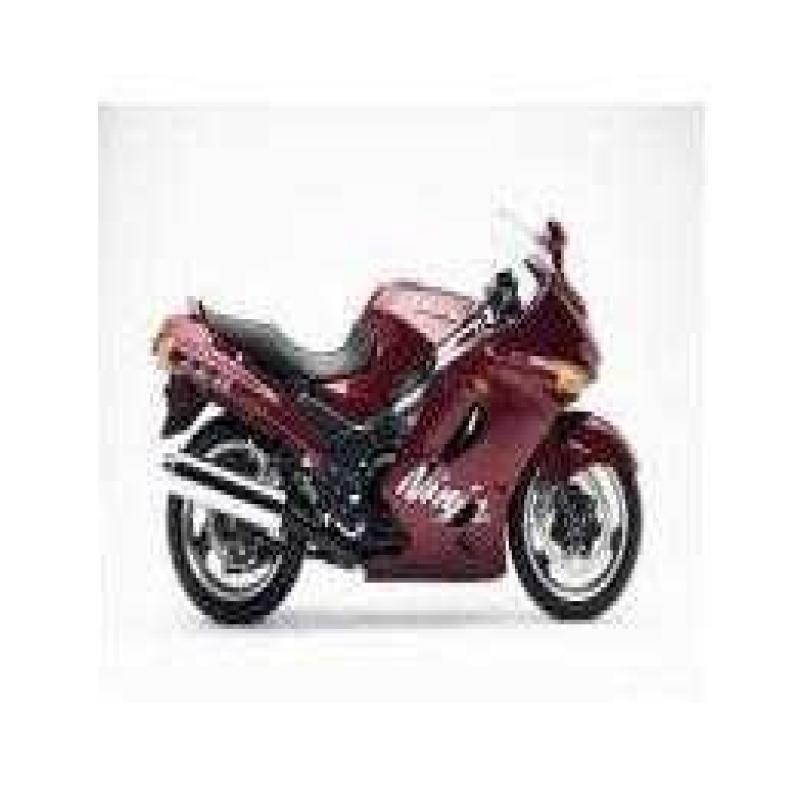bike: (108, 155, 648, 614)
